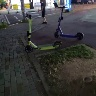beam: (53, 5, 86, 42)
gcooter: (22, 12, 65, 53)
